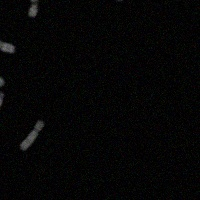chromosome: (20, 121, 44, 151), (27, 0, 38, 17), (0, 41, 14, 53), (0, 91, 3, 117), (0, 69, 4, 86), (117, 0, 127, 1)
